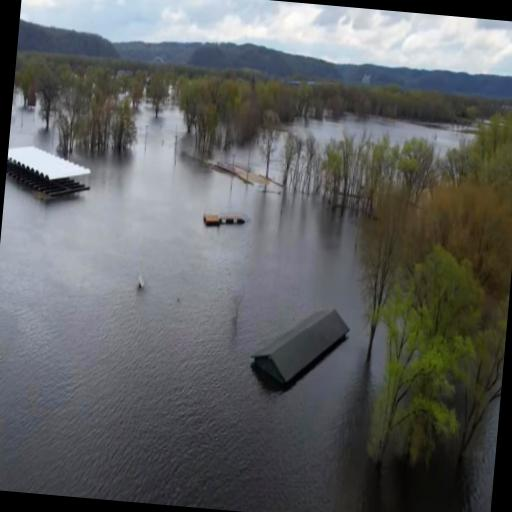flood: (0, 111, 390, 512), (378, 398, 501, 512), (285, 114, 476, 156), (370, 322, 387, 393)
house: (246, 297, 354, 399)
